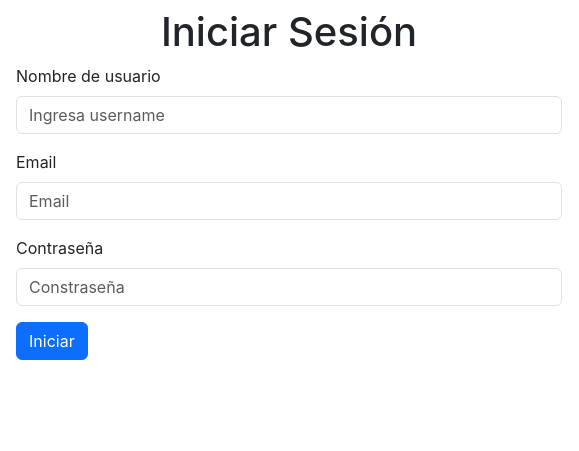
Test case: Login Component › shows error when fields are empty
Click the button "Iniciar" at (52, 341), box [16,322,88,360]
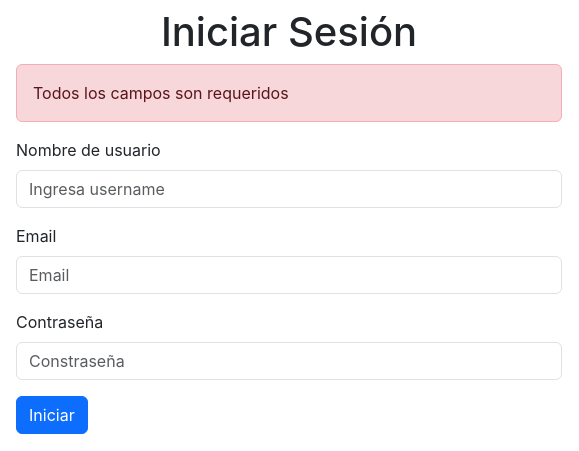
Now the text "Todos los campos son requeridos" is shown, box [16,64,562,122]
